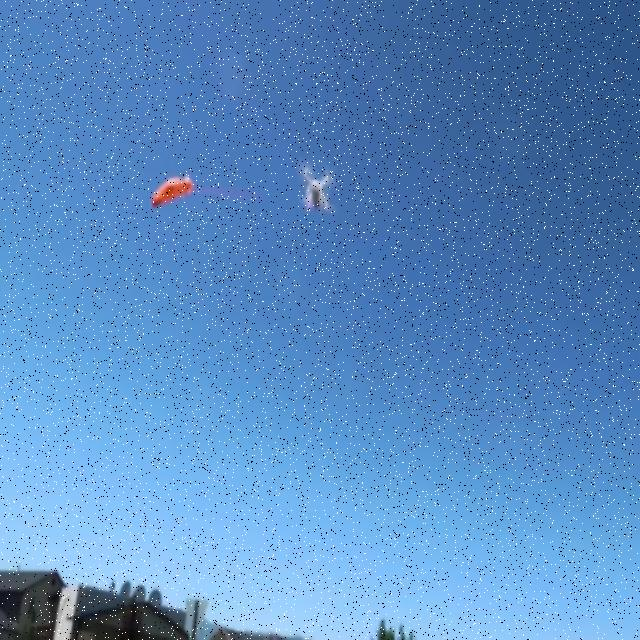UAV: (301, 166, 333, 218)
